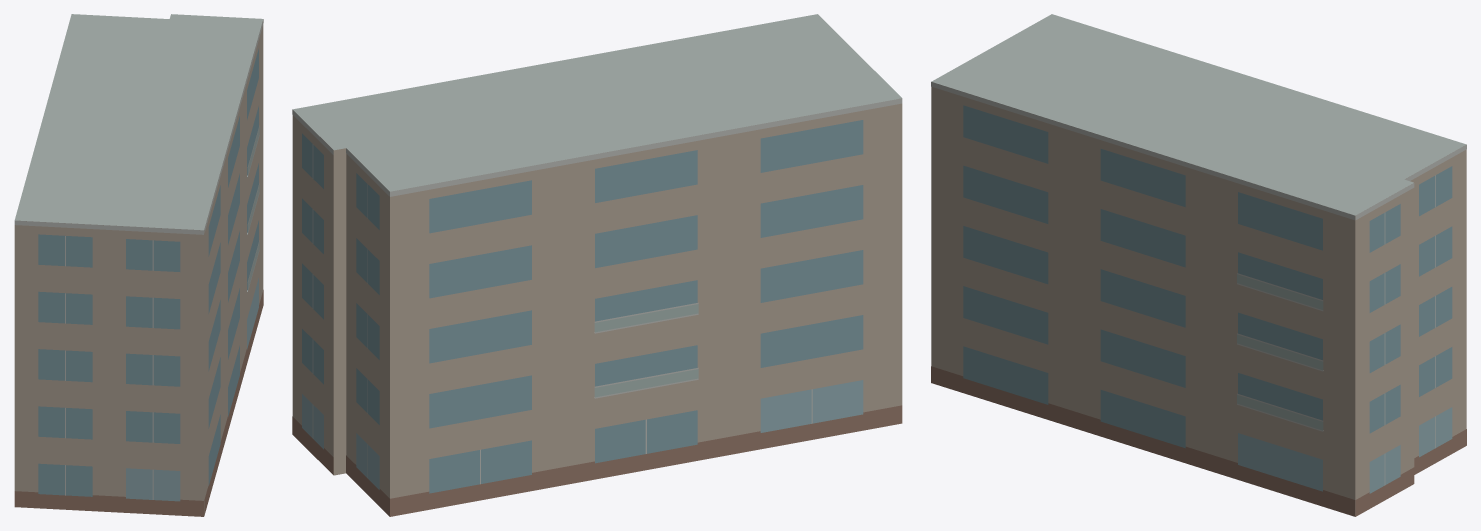
Rendered from survey-upis-32768394.glb.
3 views of the same model, side by side, from view 1: azimuth 30°, elevation 25°; view 2: azimuth 150°, elevation 25°; view 3: azimuth 270°, elevation 25° (orthographic). The views are drawn at different scales.
Visible parts, largest first — view 1: survey-upis-32768394.tmp; view 2: survey-upis-32768394.tmp; view 3: survey-upis-32768394.tmp.
Part boxes in pixels (x1,y1,x2,y2): survey-upis-32768394.tmp: (14, 14, 263, 516); survey-upis-32768394.tmp: (292, 14, 902, 516); survey-upis-32768394.tmp: (931, 14, 1466, 516).
Size of the model in its own units: 21.9 by 15.25 by 24.58.
